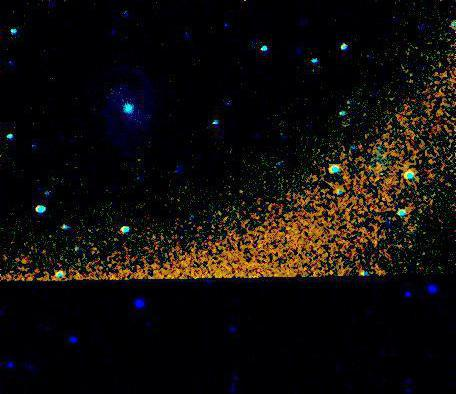star: (34, 223, 64, 253)
